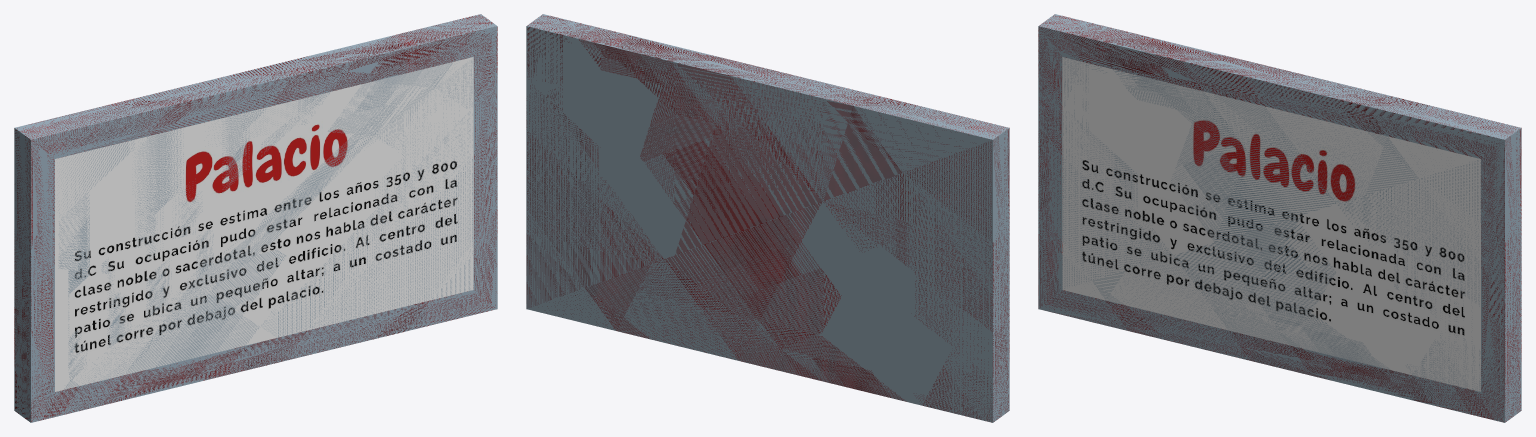
File: palacio.obj
The picture shows the model from 3 angles, left to right: view 1: azimuth 30°, elevation 25°; view 2: azimuth 150°, elevation 25°; view 3: azimuth 330°, elevation 25°; orthographic projection.
Parts seen in each view (by area): view 1: Mesh1 Model; view 2: Mesh1 Model; view 3: Mesh1 Model.
Boxes of the visible parts, <box> form: Mesh1 Model: <box>14,14,497,422</box>; Mesh1 Model: <box>526,14,1009,422</box>; Mesh1 Model: <box>1038,14,1521,422</box>.
Size of the model in its own units: 91.63 by 53.12 by 5.62.
